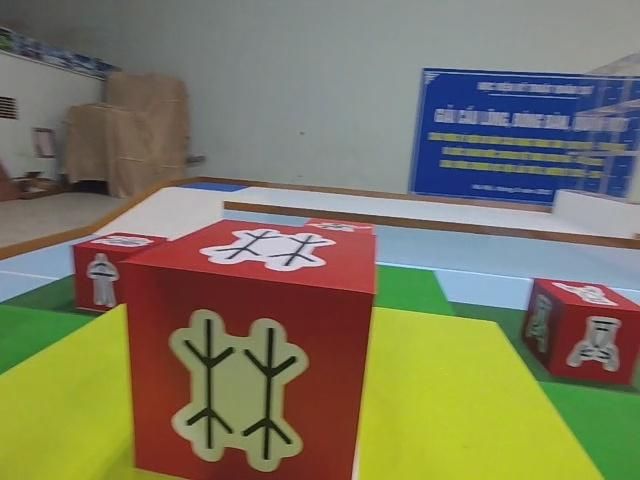R2 Fake: (72, 231, 165, 313)
R2 Real: (119, 220, 375, 480), (521, 277, 639, 383)
